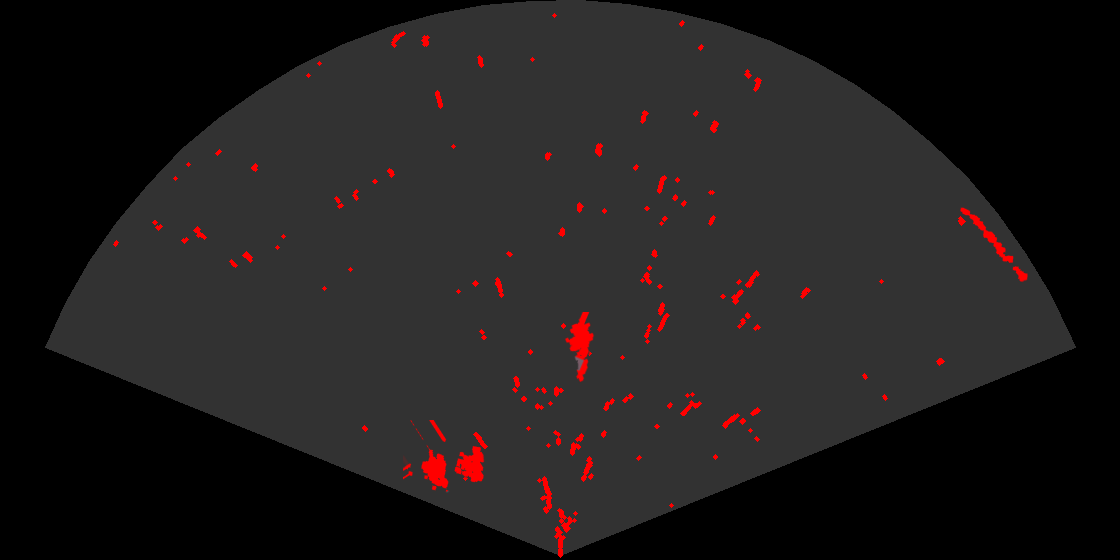cage: (403, 420, 486, 493)
chain: (959, 206, 1029, 284)
frogman: (563, 312, 596, 384)
